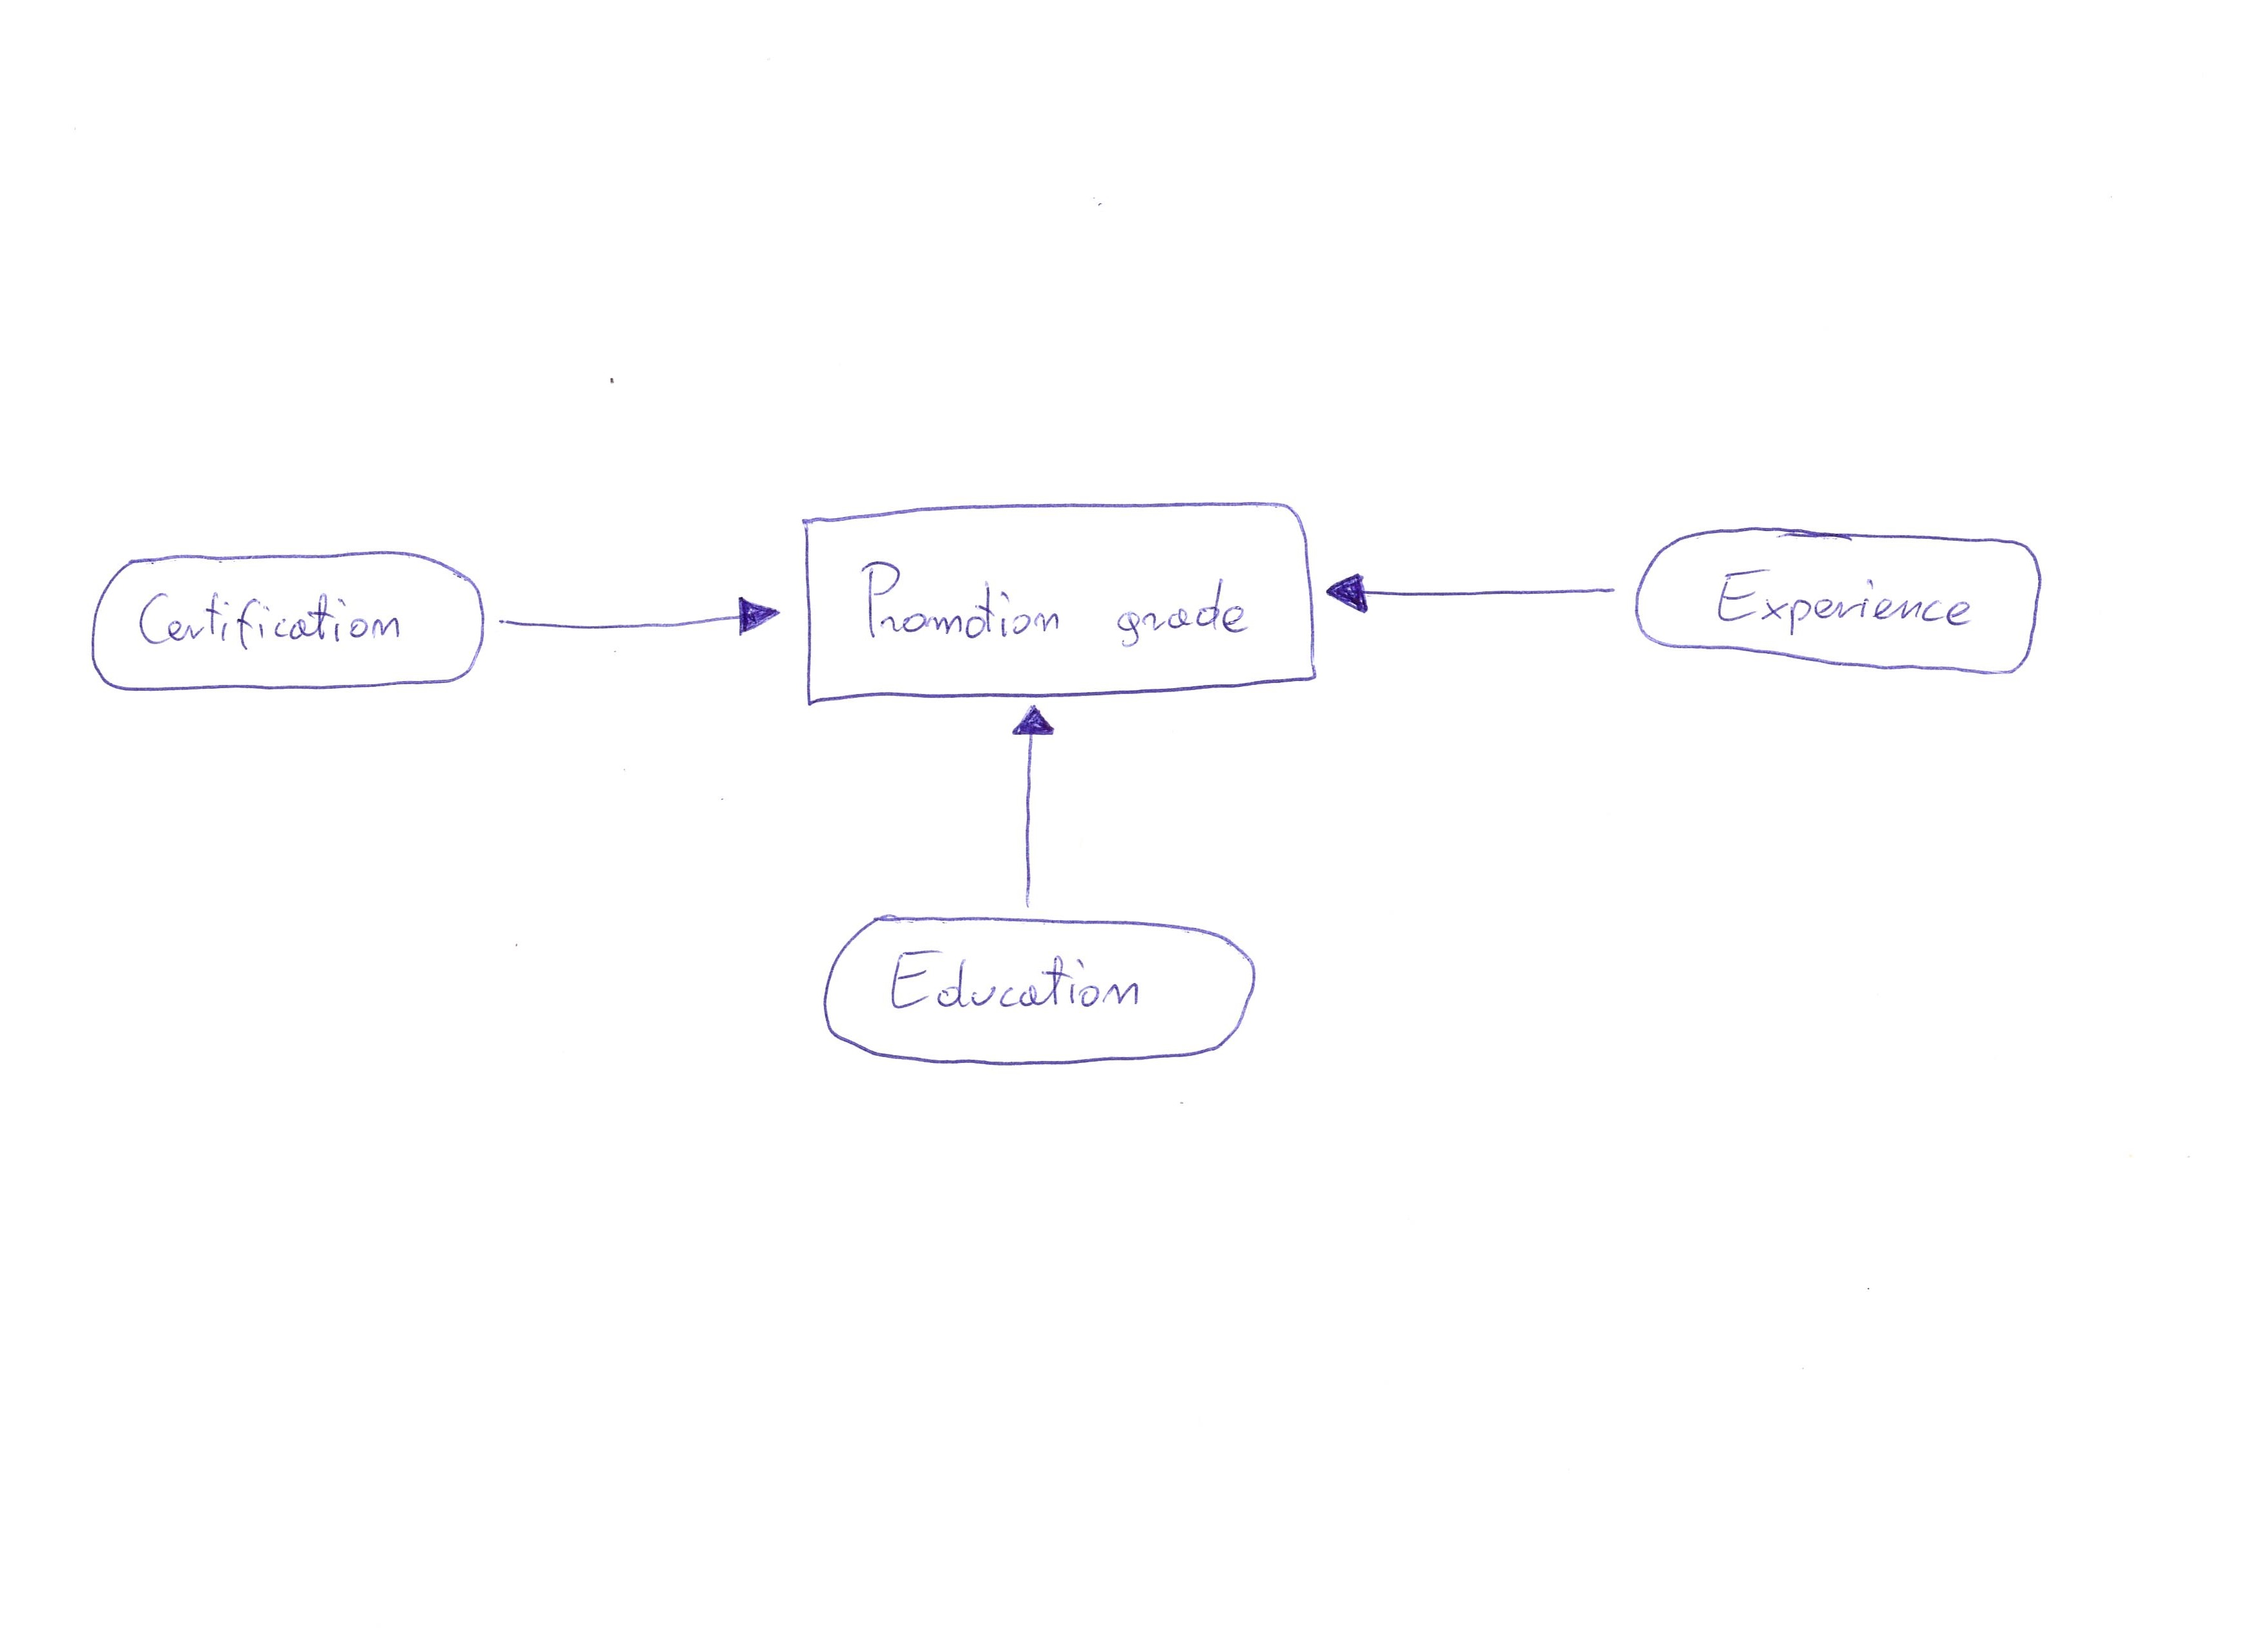arrow_information_requirement: (1321, 562, 1620, 617), (495, 594, 784, 640), (1000, 706, 1060, 907)
node_decision: (794, 495, 1315, 705)
node_input_data: (1627, 518, 2050, 685), (821, 907, 1264, 1066), (85, 550, 490, 696)
text: (856, 553, 1257, 654), (882, 941, 1155, 1022), (1712, 564, 1981, 640), (134, 580, 412, 652)
